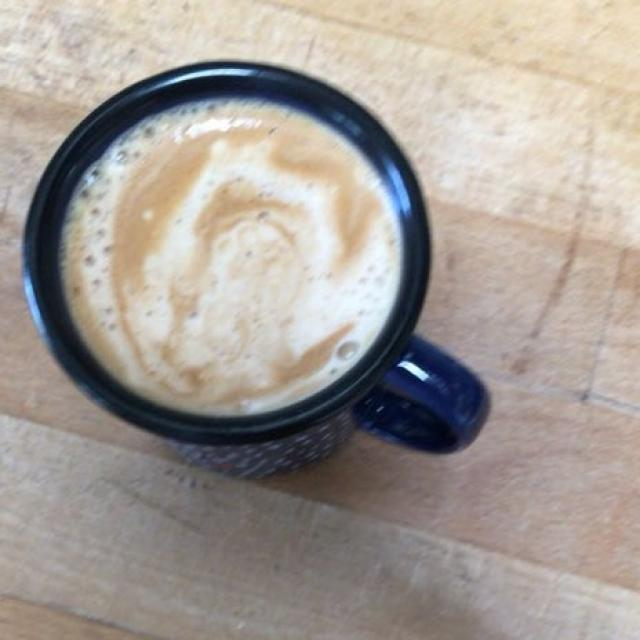coffee: (70, 101, 394, 409)
